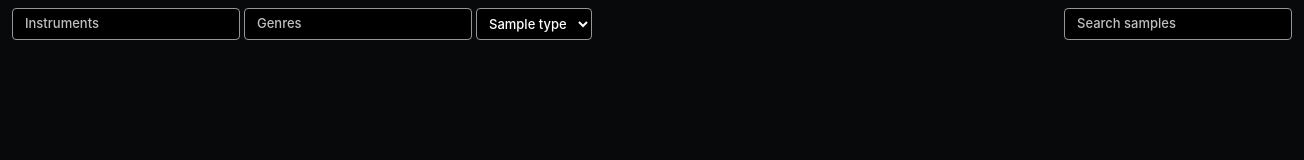
Test: Sample type selector shows its filter name by default and replaces a single choice without refetching vocabulary
The image size is (1304, 160).
Select "Loops" in the dropdown named "Sample type" at point(534, 24), box [476,8,592,40]
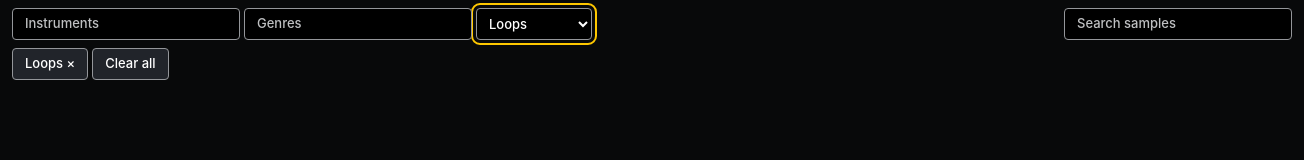
Select "Unknown" in the dropdown named "Sample type" at point(534, 24), box [476,8,592,40]
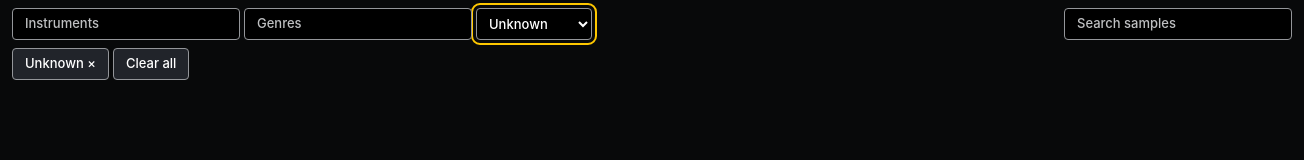
Select "Sample type" in the dropdown named "Sample type" at point(534, 24), box [476,8,592,40]
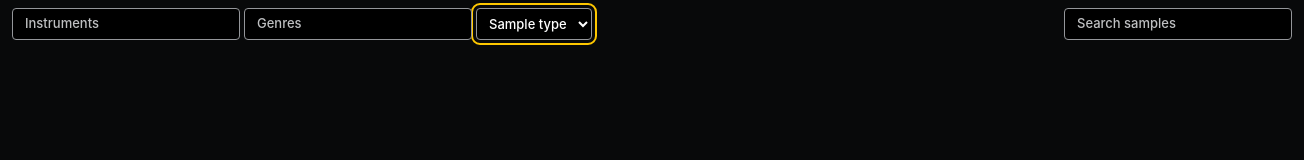
Check: the button "Clear all" is gone
